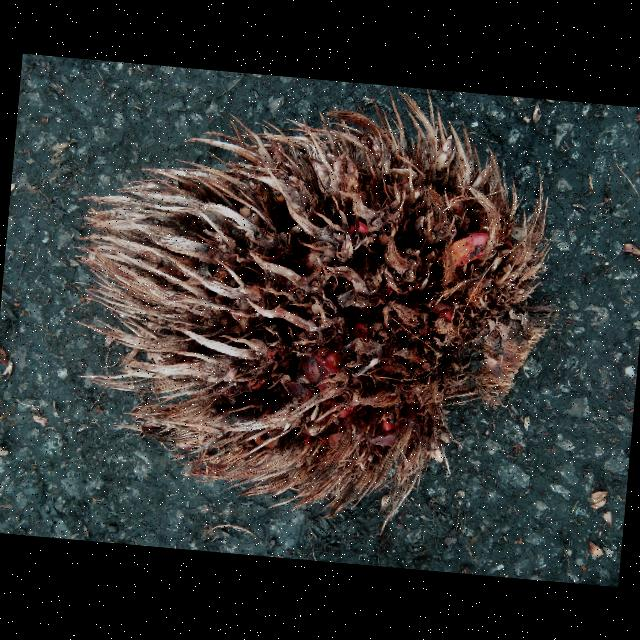Empty: (82, 109, 555, 520)
